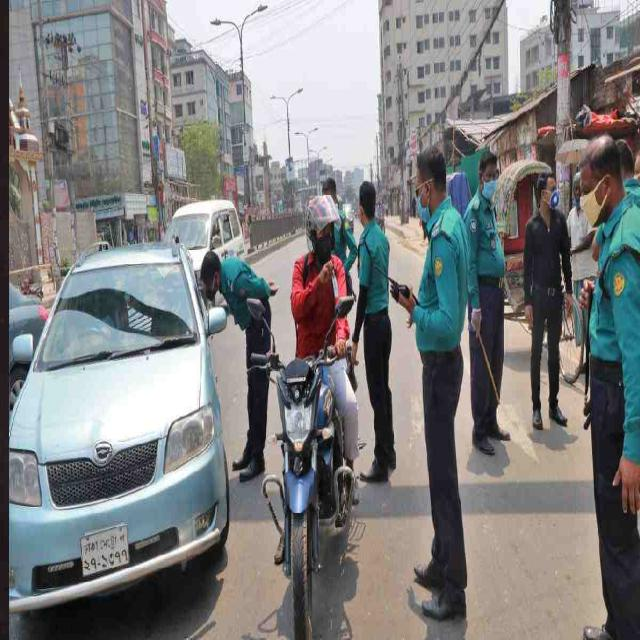bike: (262, 320, 349, 604)
car: (6, 215, 198, 616)
